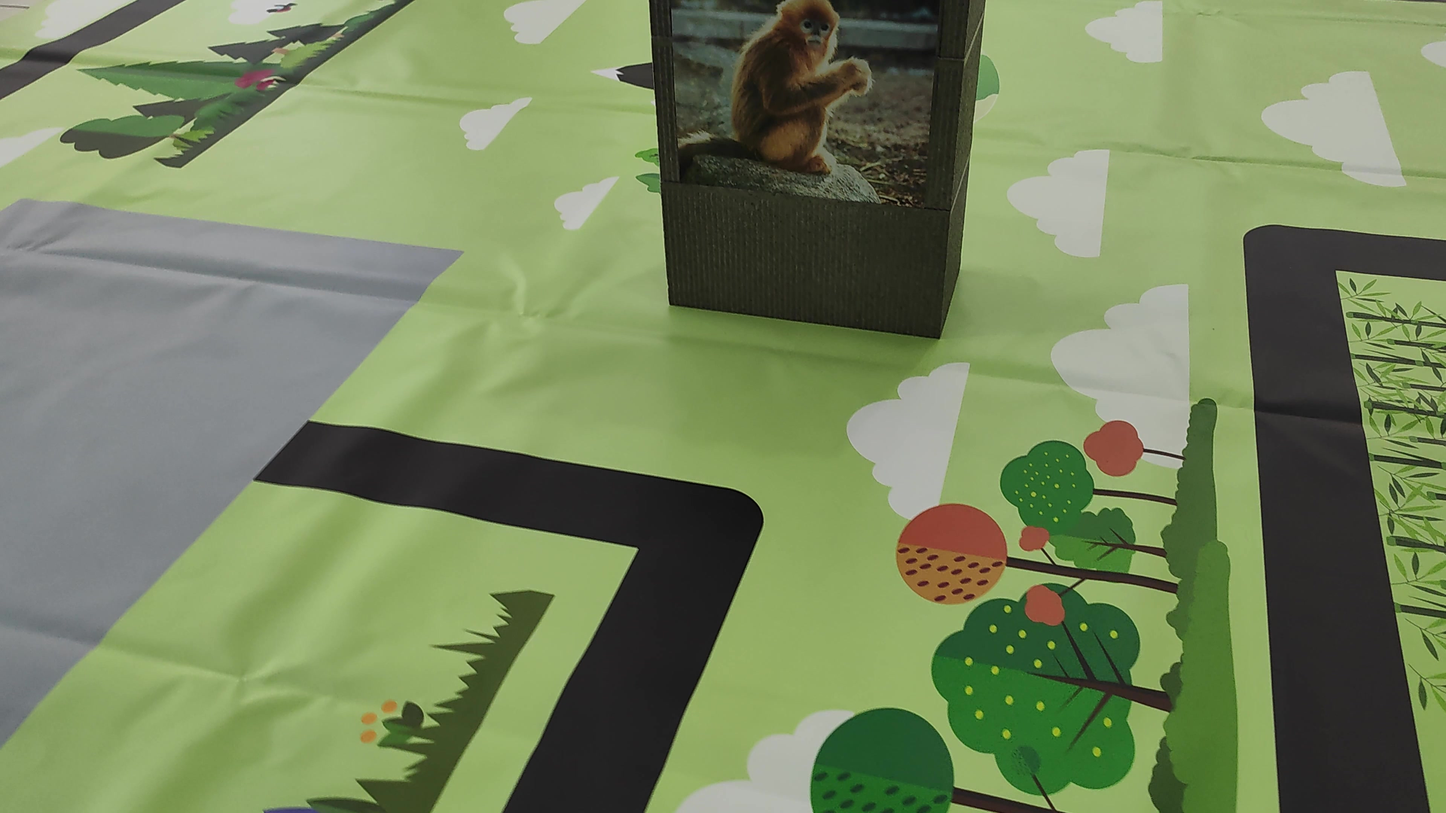monkey: (668, 11, 926, 203)
